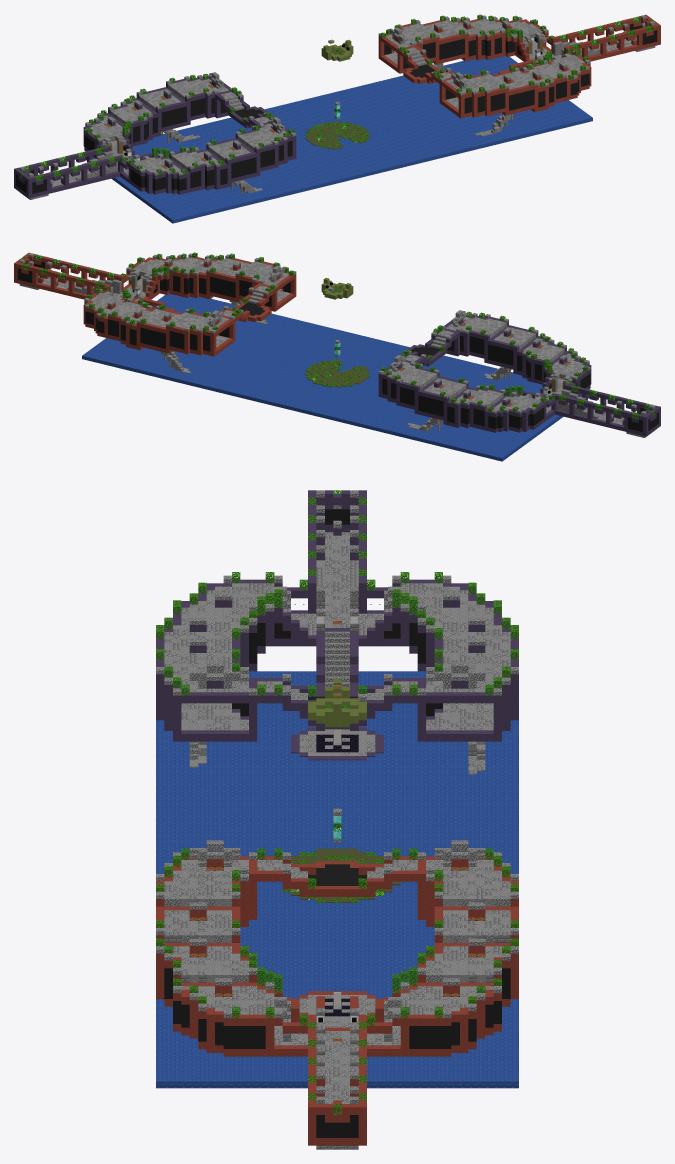
The model's file is minecraft.obj.
3 views of the same model, one above another, from view 1: azimuth 30°, elevation 25°; view 2: azimuth 150°, elevation 25°; view 3: azimuth 270°, elevation 25° (orthographic). The views are drawn at different scales.
Bounding box in the file's own units: 1730 × 250 × 430.
